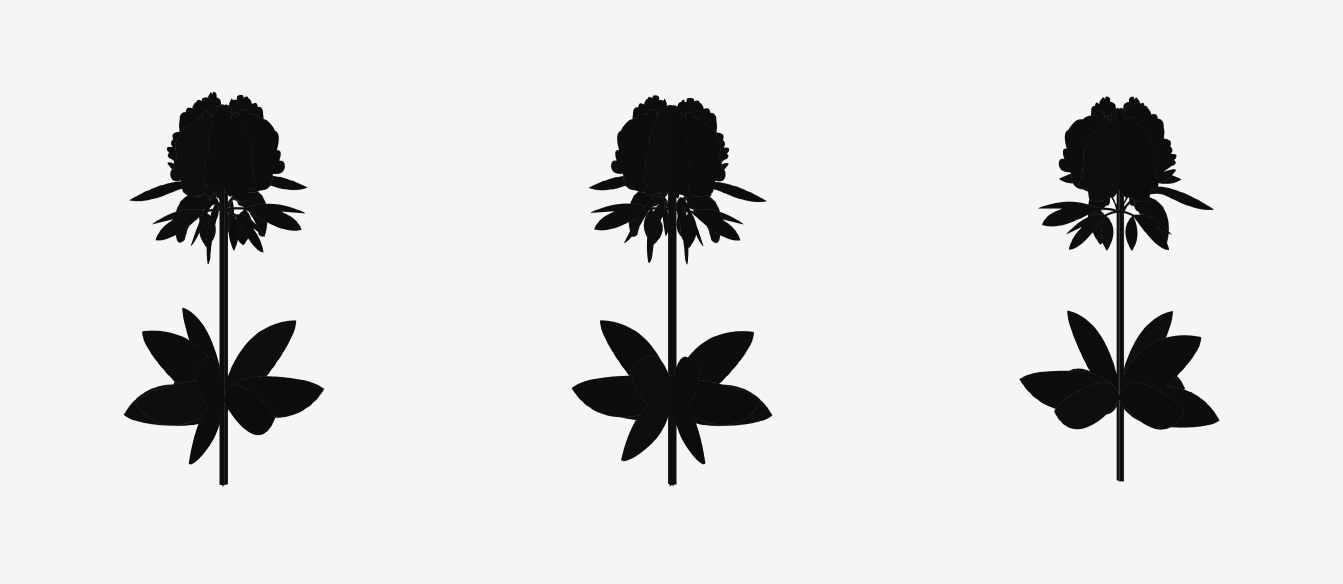
The model's file is FlowerClover.glb.
3 views of the same model, side by side, from view 1: azimuth 30°, elevation 25°; view 2: azimuth 150°, elevation 25°; view 3: azimuth 270°, elevation 25° (orthographic).
Visible parts, largest first — view 1: Clover; view 2: Clover; view 3: Clover.
Part boxes in pixels (x1=…): Clover: x1=124, y1=91, x2=323, y2=486; Clover: x1=571, y1=95, x2=772, y2=486; Clover: x1=1019, y1=96, x2=1219, y2=481.
Size of the model in its own units: 2 by 2 by 2.
Materials: 1 (1 with a texture image).
